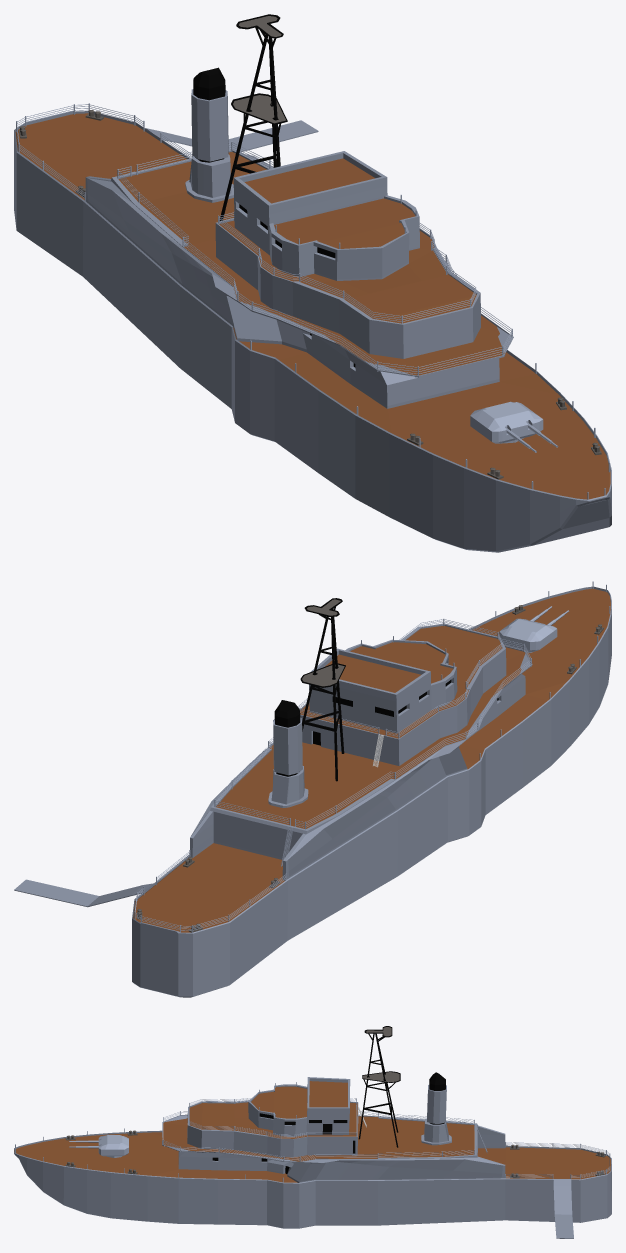
File: Buque.fbx
The picture shows the model from 3 angles, top to bottom: view 1: azimuth 30°, elevation 25°; view 2: azimuth 150°, elevation 25°; view 3: azimuth 270°, elevation 25°; orthographic projection. The views are drawn at different scales.
Visible parts, largest first — view 1: Base_barco, Torre.001, Antena, Plane.003, Cube.012, Plane.002, Salida, Plane.005, Cube.017; view 2: Base_barco, Torre.001, Antena, Plane.003, Salida, Cube.012, Plane.002, Plane.005; view 3: Base_barco, Plane.003, Torre.001, Antena, Salida, Plane.002, Plane.005, Cube.012, Cube.017.
Boxes of the visible parts, x1,y1,x2,y2 form: Base_barco: (14,111,611,552); Torre.001: (185,67,233,202); Antena: (219,14,287,220); Plane.003: (118,142,512,374); Cube.012: (470,401,543,443); Plane.002: (219,212,476,321); Salida: (145,120,318,151); Plane.005: (16,104,192,198); Cube.017: (18,110,601,479); Base_barco: (132,586,611,997); Torre.001: (268,700,308,807); Antena: (300,598,345,781); Plane.003: (215,638,531,827); Salida: (14,879,153,907); Cube.012: (499,618,557,651); Plane.002: (297,619,502,736); Plane.005: (134,851,285,930); Base_barco: (14,1077,611,1228); Plane.003: (163,1111,474,1160); Torre.001: (421,1072,451,1145); Antena: (358,1026,400,1147); Salida: (553,1179,573,1238); Plane.002: (189,1098,356,1137); Plane.005: (506,1142,609,1177); Cube.012: (98,1135,128,1156); Cube.017: (65,1130,605,1178).
Size of the model in its own units: 5426 by 5315 by 16186.
